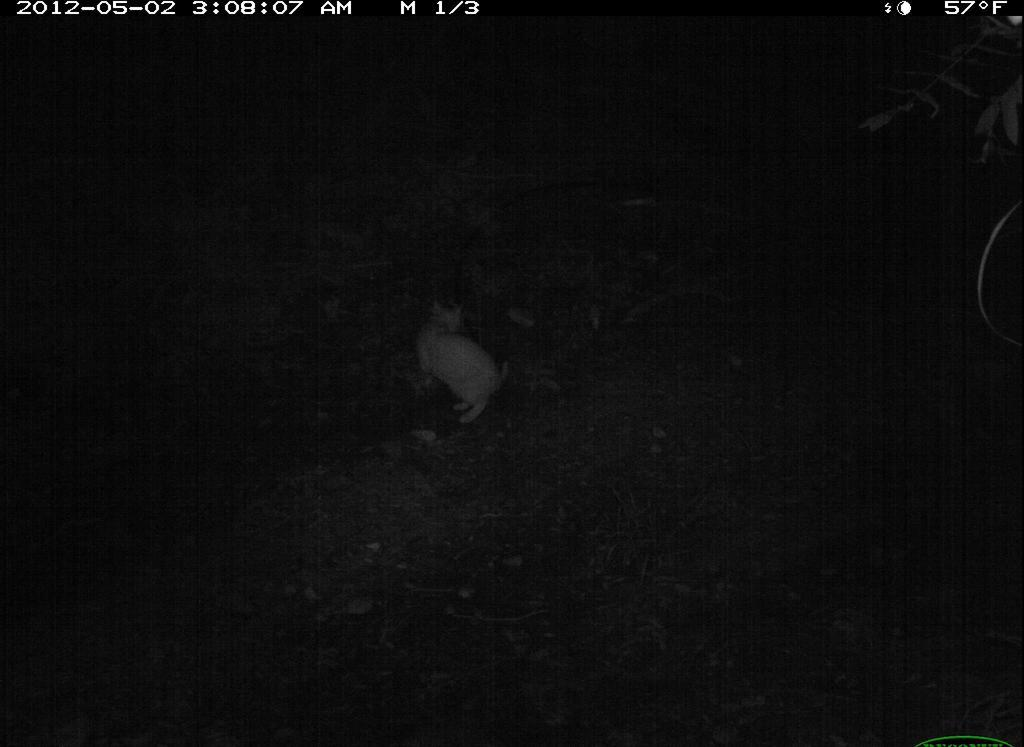cat: (401, 287, 516, 431)
